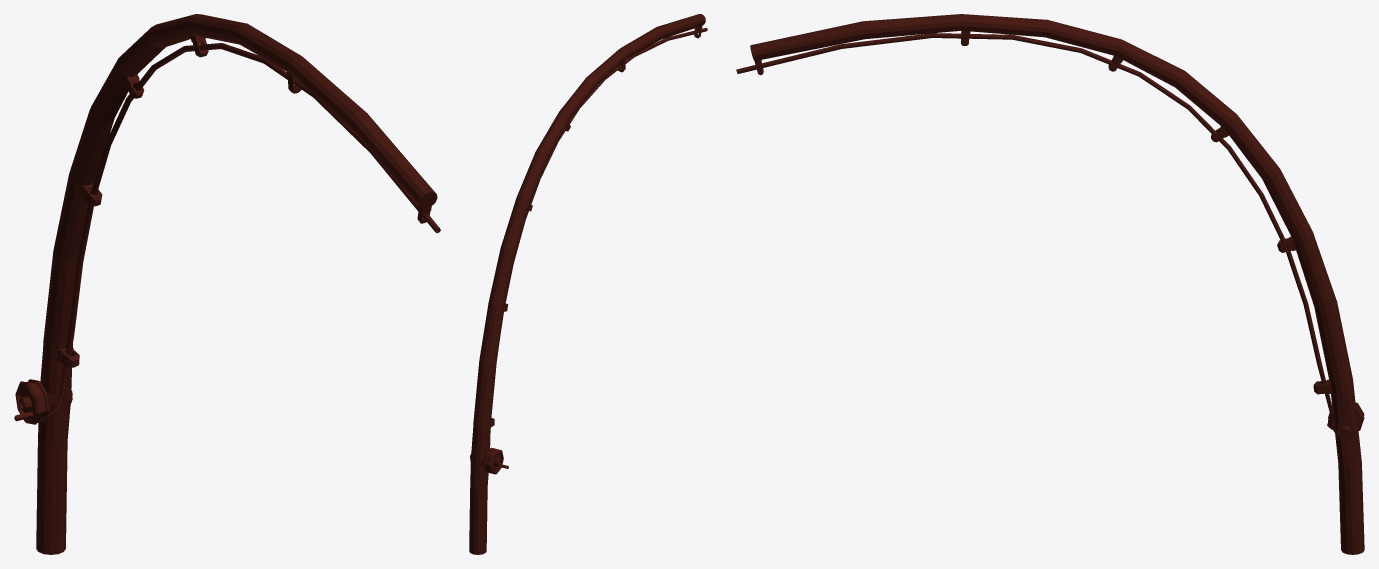
Rendered from LP_FishingRod.fbx.
3 views of the same model, side by side, from view 1: azimuth 30°, elevation 25°; view 2: azimuth 150°, elevation 25°; view 3: azimuth 270°, elevation 25° (orthographic). The views are drawn at different scales.
Parts seen in each view (by area): view 1: FishingRod; view 2: FishingRod; view 3: FishingRod.
Boxes of the visible parts, <box> form: FishingRod: <box>14,14,440,554</box>; FishingRod: <box>469,14,707,554</box>; FishingRod: <box>736,14,1364,554</box>.
Size of the model in its own units: 4.7 by 51.36 by 54.65.
